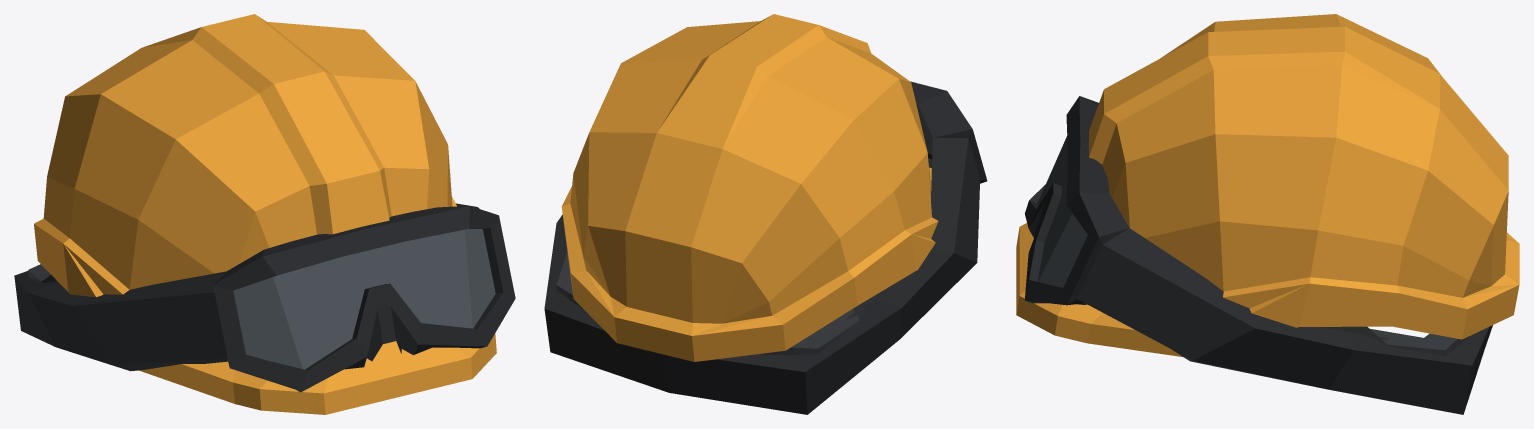
Rendered from SM_Chr_Attach_Helmet_Goggles_01.fbx.
3 renders of one model, left to right at view 1: azimuth 30°, elevation 25°; view 2: azimuth 150°, elevation 25°; view 3: azimuth 270°, elevation 25°, orthographic. The views are drawn at different scales.
Parts seen in each view (by area): view 1: SM_Chr_Attach_Helmet_Goggles_01; view 2: SM_Chr_Attach_Helmet_Goggles_01; view 3: SM_Chr_Attach_Helmet_Goggles_01.
Boxes of the visible parts, x1=… form: SM_Chr_Attach_Helmet_Goggles_01: x1=14, y1=14, x2=515, y2=414; SM_Chr_Attach_Helmet_Goggles_01: x1=544, y1=14, x2=987, y2=414; SM_Chr_Attach_Helmet_Goggles_01: x1=1016, y1=14, x2=1519, y2=414.
Size of the model in its own units: 32.81 by 24.9 by 36.63.
